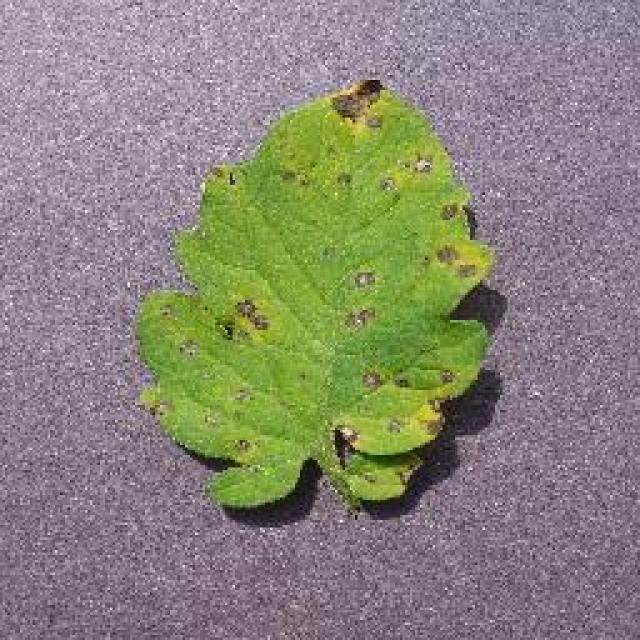Tomato Septoria spot leaf: (142, 74, 496, 508)
